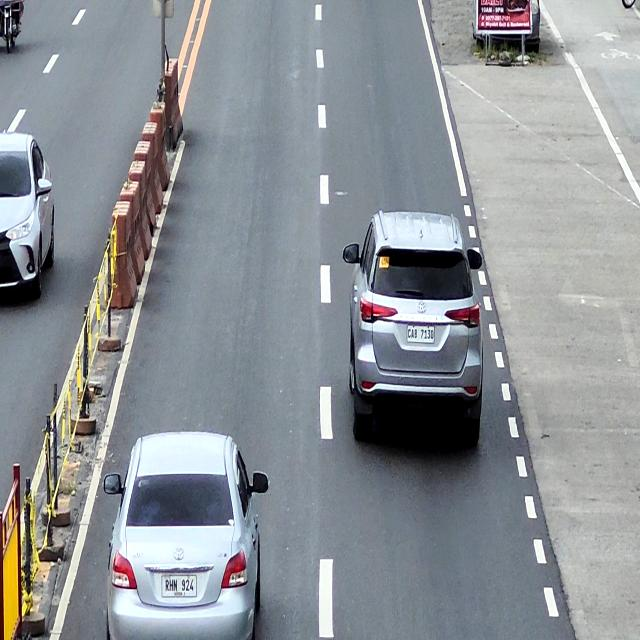Car: (104, 430, 268, 640), (344, 212, 484, 448), (0, 132, 57, 306)
License-Plate: (162, 576, 196, 596), (407, 326, 436, 344)
